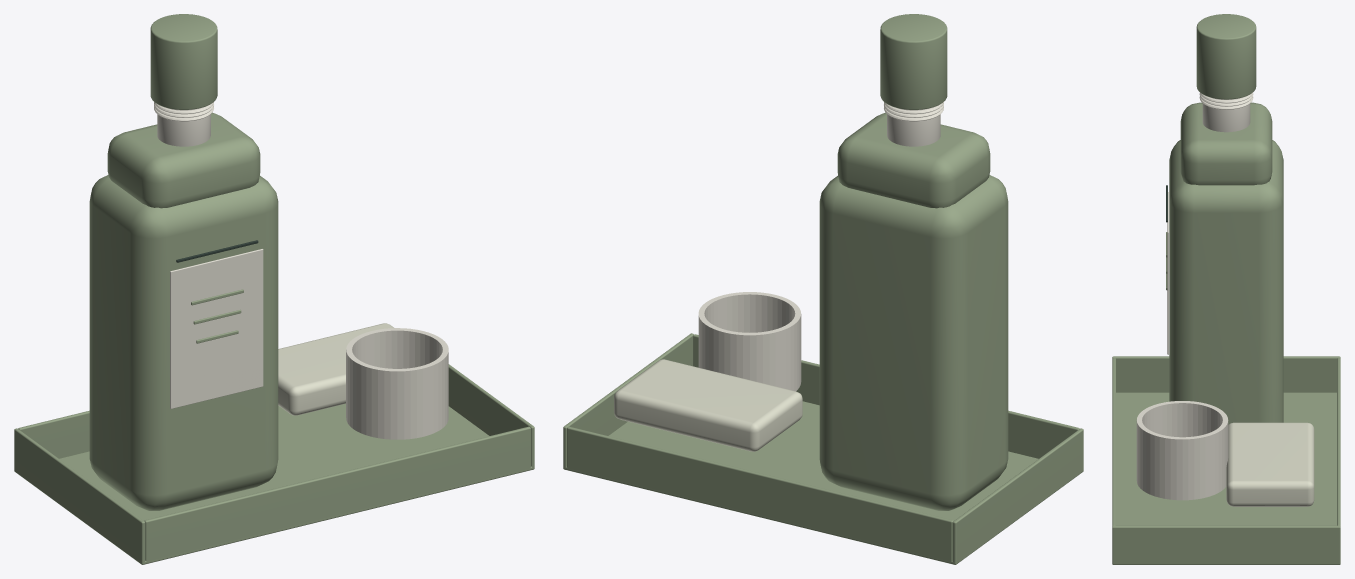
Rendered from floor-dose.glb.
The picture shows the model from 3 angles, left to right: view 1: azimuth 30°, elevation 25°; view 2: azimuth 150°, elevation 25°; view 3: azimuth 270°, elevation 25°; orthographic projection. The views are drawn at different scales.
Parts seen in each view (by area): view 1: Task bottle molded body, Presentation tray front, Task bottle task label, Presentation tray floor, Measured dose cup, Task bottle shoulder, Task bottle closure, Presentation tray left, Cloth or applicator, Presentation tray right, Presentation tray back, Task bottle neck; view 2: Task bottle molded body, Presentation tray back, Cloth or applicator, Task bottle shoulder, Presentation tray floor, Measured dose cup, Task bottle closure, Presentation tray left, Presentation tray front, Presentation tray right, Task bottle neck; view 3: Task bottle molded body, Presentation tray floor, Presentation tray right, Measured dose cup, Cloth or applicator, Task bottle shoulder, Task bottle closure, Presentation tray left, Task bottle neck, Presentation tray back, Presentation tray front.
Boxes of the visible parts, x1,y1,x2,y2 form: Task bottle molded body: (89, 175, 278, 510); Presentation tray front: (144, 426, 530, 563); Task bottle task label: (170, 249, 263, 408); Presentation tray floor: (59, 403, 533, 564); Measured dose cup: (346, 328, 448, 439); Task bottle shoulder: (107, 112, 260, 208); Task bottle closure: (150, 14, 217, 109); Presentation tray left: (14, 428, 145, 564); Cloth or applicator: (278, 323, 394, 415); Presentation tray right: (448, 364, 534, 469); Presentation tray back: (18, 410, 89, 458); Task bottle neck: (157, 108, 210, 146); Task bottle molded body: (819, 175, 1008, 510); Presentation tray back: (567, 426, 953, 563); Cloth or applicator: (614, 359, 802, 451); Task bottle shoulder: (837, 112, 990, 208); Presentation tray floor: (564, 401, 1038, 564); Measured dose cup: (698, 292, 801, 391); Task bottle closure: (880, 14, 947, 109); Presentation tray left: (952, 428, 1083, 564); Presentation tray front: (693, 334, 1079, 458); Presentation tray right: (563, 333, 693, 469); Task bottle neck: (887, 108, 940, 146); Task bottle molded body: (1169, 140, 1283, 424); Presentation tray floor: (1116, 392, 1336, 525); Presentation tray right: (1112, 525, 1340, 564); Measured dose cup: (1136, 401, 1228, 500); Cloth or applicator: (1226, 422, 1314, 506); Task bottle shoulder: (1180, 102, 1272, 185); Task bottle closure: (1196, 14, 1256, 99); Presentation tray left: (1112, 356, 1340, 392); Task bottle neck: (1202, 98, 1250, 132); Presentation tray back: (1337, 358, 1340, 525); Presentation tray front: (1112, 358, 1115, 525).
Size of the model in its own units: 0.23 by 0.26 by 0.13.
